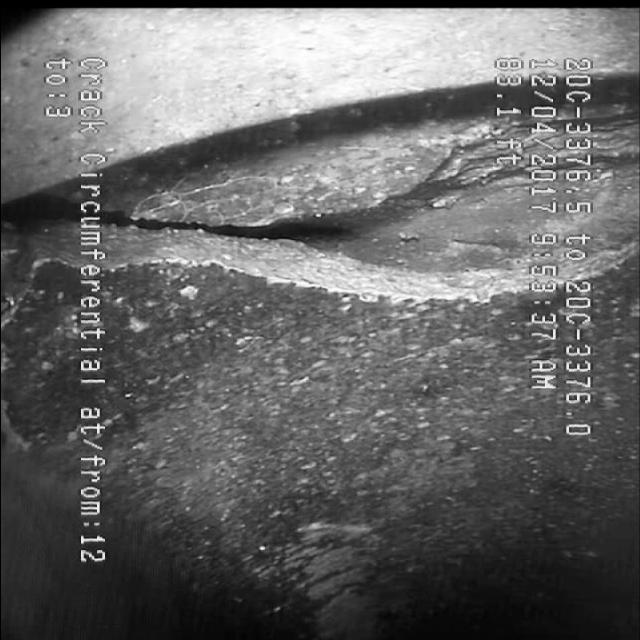Crack: (118, 108, 436, 312)
